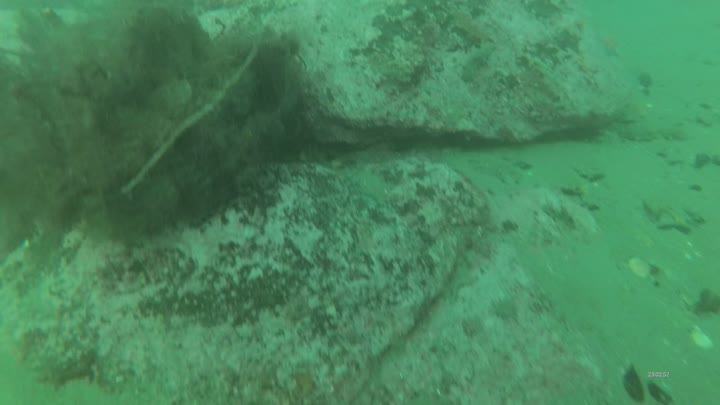holothurian: (617, 125, 692, 143)
starfish: (597, 33, 622, 59)
